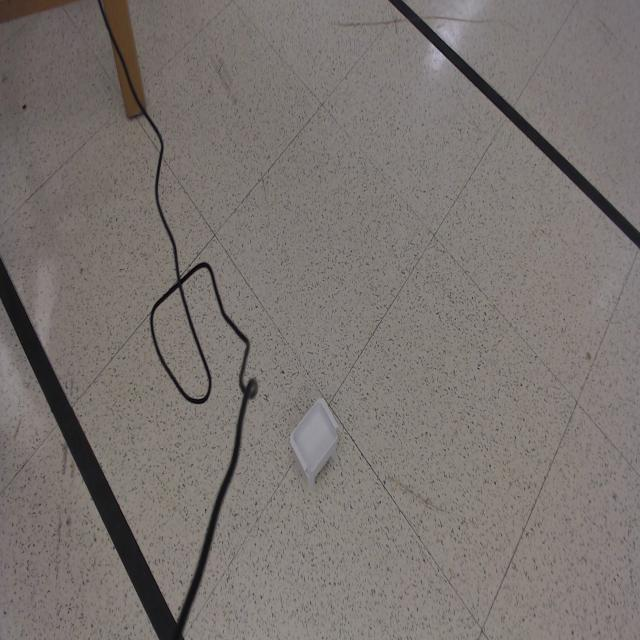wbox: (288, 394, 340, 490)
